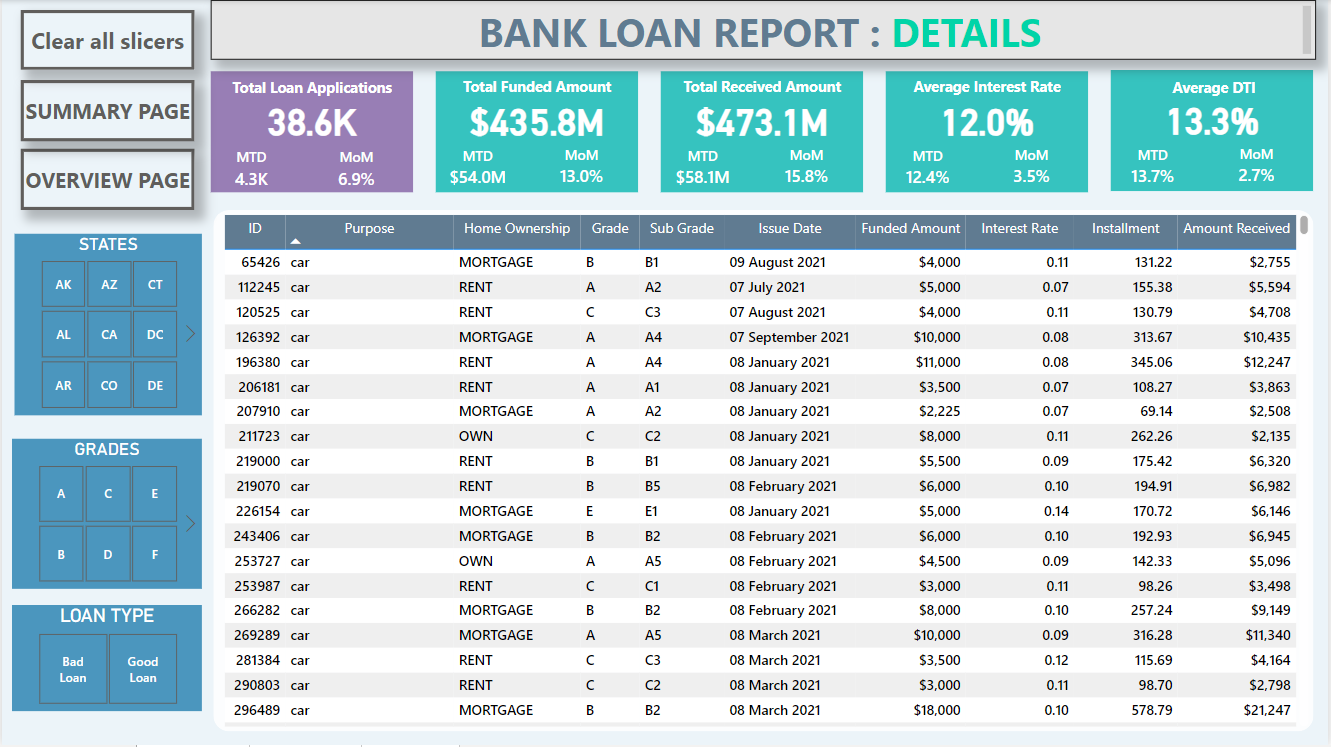

What the dashboard file says about the page in this screenshot:
{"tool":"powerbi","page":{"name":"Details","canvas":[1280,720],"ordinal":2},"visuals":[{"type":"shape","box":[203.9,202.7,1061.7,503.1],"z":0},{"type":"group","id":"g1","title":"Group 1","box":[200.9,69.1,196,117],"z":2000},{"type":"shape","box":[1070,68.1,195.4,117],"z":3000,"group":"g5"},{"type":"shape","box":[635.7,68.5,195.4,117],"z":3000,"group":"g3"},{"type":"shape","box":[852.9,68.5,195.4,117],"z":3000,"group":"g4"},{"type":"group","id":"g2","title":"Group 1","box":[418.6,68.9,195.4,117.3],"z":3000},{"type":"shape","box":[418.6,68.9,195.4,117],"z":3000,"group":"g2"},{"type":"shape","box":[201.5,69.1,195.4,117],"z":3000,"group":"g1"},{"type":"group","id":"g3","title":"Group 1","box":[635.7,68.5,195.4,118.2],"z":4000},{"type":"card","fields":{"Values":["bank_loan.Average DTI"]},"box":[1070.1,92.9,195.4,42.2],"z":4000,"group":"g5"},{"type":"card","fields":{"Values":["bank_loan.Total Amount Received"]},"box":[635.7,93.8,195.4,42.2],"z":4000,"group":"g3"},{"type":"card","fields":{"Values":["bank_loan.Average Interest Rate"]},"box":[852.9,93.8,195.4,42.2],"z":4000,"group":"g4"},{"type":"card","fields":{"Values":["bank_loan.Total Funded Amount"]},"box":[418.6,94.2,195.4,42.2],"z":4000,"group":"g2"},{"type":"card","fields":{"Values":["bank_loan.Total Loan Appilcation"]},"box":[201.5,94.4,195.4,42.2],"z":4000,"group":"g1"},{"type":"textbox","box":[635.7,68.5,195.4,33.8],"z":5000,"group":"g3"},{"type":"group","id":"g4","title":"Group 1","box":[852.9,68.5,195.4,118.2],"z":5000},{"type":"textbox","box":[852.9,68.5,195.4,33.8],"z":5000,"group":"g4"},{"type":"textbox","box":[418.6,68.9,195.4,33.8],"z":5000,"group":"g2"},{"type":"textbox","box":[200.9,70.2,195.4,33.8],"z":5000,"group":"g1"},{"type":"textbox","box":[1072.2,70.3,194.2,31.4],"z":5000,"group":"g5"},{"type":"group","id":"g5","title":"Group 1","box":[1070,68.1,196.5,117],"z":6000},{"type":"card","title":"MTD","fields":{"Values":["bank_loan.MTD Average DTI"]},"box":[1072.3,140.2,76,44.6],"z":6000,"group":"g5"},{"type":"card","title":"MTD","fields":{"Values":["bank_loan.MTD Total Amount Receieved"]},"box":[637.8,141.2,76,44.6],"z":6000,"group":"g3"},{"type":"card","title":"MTD","fields":{"Values":["bank_loan.MTD Average Interest Rate"]},"box":[855,141.2,76,44.6],"z":6000,"group":"g4"},{"type":"card","title":"MTD","fields":{"Values":["bank_loan.MTD Funded Amount"]},"box":[420.7,141.6,76,44.6],"z":6000,"group":"g2"},{"type":"card","title":"MTD","fields":{"Values":["bank_loan.MTD Loan Applications"]},"box":[208.7,142.7,63.9,43.4],"z":6000,"group":"g1"},{"type":"card","title":"MoM","fields":{"Values":["bank_loan.MoM Average DTI"]},"box":[1179.7,139,61.5,45.8],"z":7000,"group":"g5"},{"type":"card","title":"MoM","fields":{"Values":["bank_loan.MoM Total Received Amount"]},"box":[745.2,140,61.5,45.8],"z":7000,"group":"g3"},{"type":"card","title":"MoM","fields":{"Values":["bank_loan.MoM Average Interest Rate"]},"box":[962.4,140,61.5,45.8],"z":7000,"group":"g4"},{"type":"card","title":"MoM","fields":{"Values":["bank_loan.MoM Funded Amount"]},"box":[528.1,140.4,61.5,45.8],"z":7000,"group":"g2"},{"type":"card","title":"MoM","fields":{"Values":["bank_loan.MoM Loan Application"]},"box":[308.8,142.7,63.9,43.4],"z":7000,"group":"g1"},{"type":"tableEx","fields":{"Values":["bank_loan.id","bank_loan.purpose","bank_loan.home_ownership","bank_loan.grade","bank_loan.sub_grade","bank_loan.issue_date","bank_loan.Total Funded Amount","Sum(bank_loan.int_rate)","Sum(bank_loan.installment)","bank_loan.Total Amount Received"]},"box":[208.7,202.7,1056.8,503.1],"z":10000},{"type":"actionButton","box":[18.1,9.6,167.6,57.9],"z":11000},{"type":"actionButton","box":[18.1,143.5,167.6,59.1],"z":12000},{"type":"actionButton","box":[18.1,77.2,167.6,59.1],"z":13000},{"type":"slicer","title":"STATES","fields":{"Values":["bank_loan.address_state"]},"box":[12.1,225.5,180.9,174.9],"z":14000},{"type":"slicer","title":"GRADES","fields":{"Values":["bank_loan.grade"]},"box":[9.6,423.3,183.3,144.7],"z":14001},{"type":"slicer","title":"LOAN TYPE","fields":{"Values":["bank_loan.Good Vs Bad Loan"]},"box":[9.6,583.7,183.3,102.5],"z":14002},{"type":"textbox","box":[201.4,0,1066.1,57.9],"z":14003}]}

Visuals, with their boxes in screenshot pixels (x1, y1, x2, y2), scaled from the page's 1280x720 canvas onto the 1331x747 screenshot:
shape: x1=212, y1=210, x2=1316, y2=732
"Group 1" group: x1=209, y1=72, x2=413, y2=193
shape: x1=1113, y1=71, x2=1316, y2=192
shape: x1=661, y1=71, x2=864, y2=192
shape: x1=887, y1=71, x2=1090, y2=192
"Group 1" group: x1=435, y1=71, x2=638, y2=193
shape: x1=435, y1=71, x2=638, y2=193
shape: x1=210, y1=72, x2=413, y2=193
"Group 1" group: x1=661, y1=71, x2=864, y2=194
card - bank_loan.Average DTI: x1=1113, y1=96, x2=1316, y2=140
card - bank_loan.Total Amount Received: x1=661, y1=97, x2=864, y2=141
card - bank_loan.Average Interest Rate: x1=887, y1=97, x2=1090, y2=141
card - bank_loan.Total Funded Amount: x1=435, y1=98, x2=638, y2=142
card - bank_loan.Total Loan Appilcation: x1=210, y1=98, x2=413, y2=142
textbox: x1=661, y1=71, x2=864, y2=106
"Group 1" group: x1=887, y1=71, x2=1090, y2=194
textbox: x1=887, y1=71, x2=1090, y2=106
textbox: x1=435, y1=71, x2=638, y2=107
textbox: x1=209, y1=73, x2=412, y2=108
textbox: x1=1115, y1=73, x2=1317, y2=106
"Group 1" group: x1=1113, y1=71, x2=1317, y2=192
"MTD" card: x1=1115, y1=145, x2=1194, y2=192
"MTD" card: x1=663, y1=146, x2=742, y2=193
"MTD" card: x1=889, y1=146, x2=968, y2=193
"MTD" card: x1=437, y1=147, x2=516, y2=193
"MTD" card: x1=217, y1=148, x2=283, y2=193
"MoM" card: x1=1227, y1=144, x2=1291, y2=192
"MoM" card: x1=775, y1=145, x2=839, y2=193
"MoM" card: x1=1001, y1=145, x2=1065, y2=193
"MoM" card: x1=549, y1=146, x2=613, y2=193
"MoM" card: x1=321, y1=148, x2=388, y2=193
tableEx - bank_loan.id x bank_loan.purpose: x1=217, y1=210, x2=1316, y2=732
actionButton: x1=19, y1=10, x2=193, y2=70
actionButton: x1=19, y1=149, x2=193, y2=210
actionButton: x1=19, y1=80, x2=193, y2=141
"STATES" slicer: x1=13, y1=234, x2=201, y2=415
"GRADES" slicer: x1=10, y1=439, x2=201, y2=589
"LOAN TYPE" slicer: x1=10, y1=606, x2=201, y2=712
textbox: x1=209, y1=0, x2=1318, y2=60
